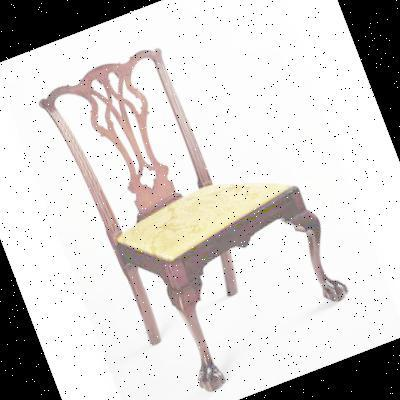Silla: (38, 20, 367, 399)
